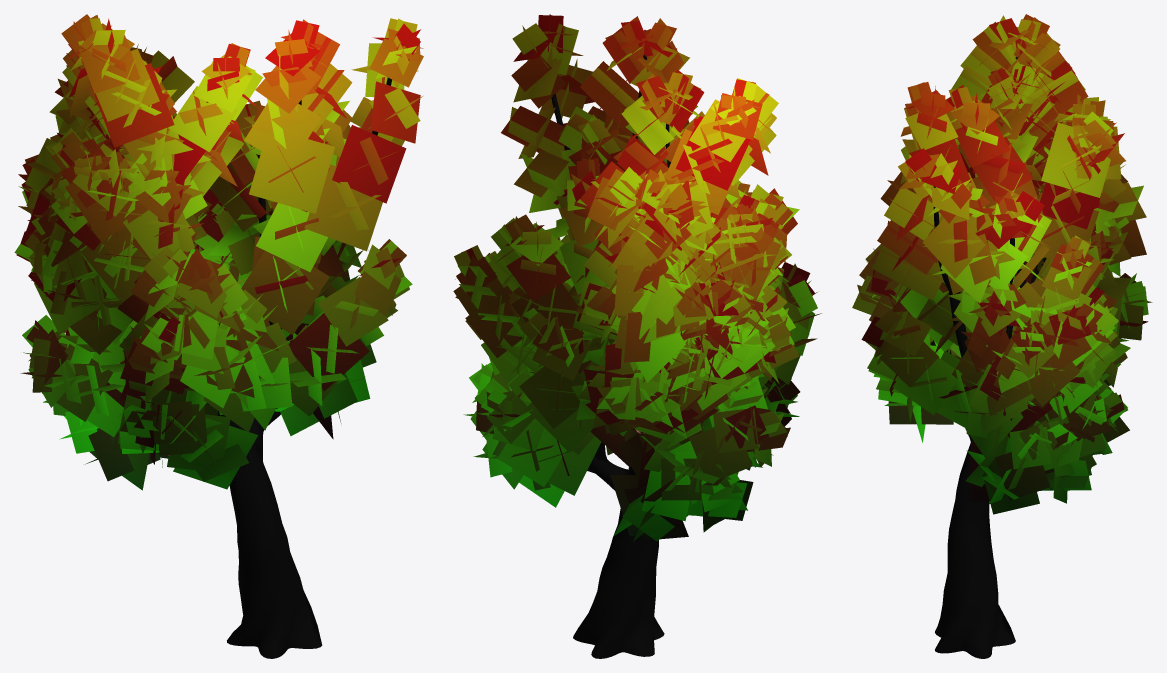
Rendered from env_tree_bg_qt_twisted_2.fbx.
3 renders of one model, left to right at view 1: azimuth 30°, elevation 25°; view 2: azimuth 150°, elevation 25°; view 3: azimuth 270°, elevation 25°, orthographic. The views are drawn at different scales.
Visible parts, largest first — view 1: env_tree_bg_qt_twisted_2; view 2: env_tree_bg_qt_twisted_2; view 3: env_tree_bg_qt_twisted_2.
Boxes of the visible parts, left/top/right/bottom form: env_tree_bg_qt_twisted_2: left=14, top=14, right=423, bottom=658; env_tree_bg_qt_twisted_2: left=453, top=14, right=821, bottom=658; env_tree_bg_qt_twisted_2: left=852, top=14, right=1152, bottom=658.
Bounding box in the file's own units: 10.56 × 18.95 × 9.2.
